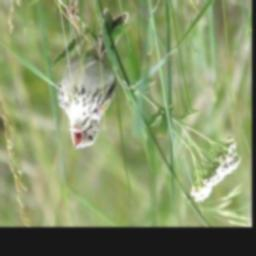Sparrow: (56, 5, 129, 150)
